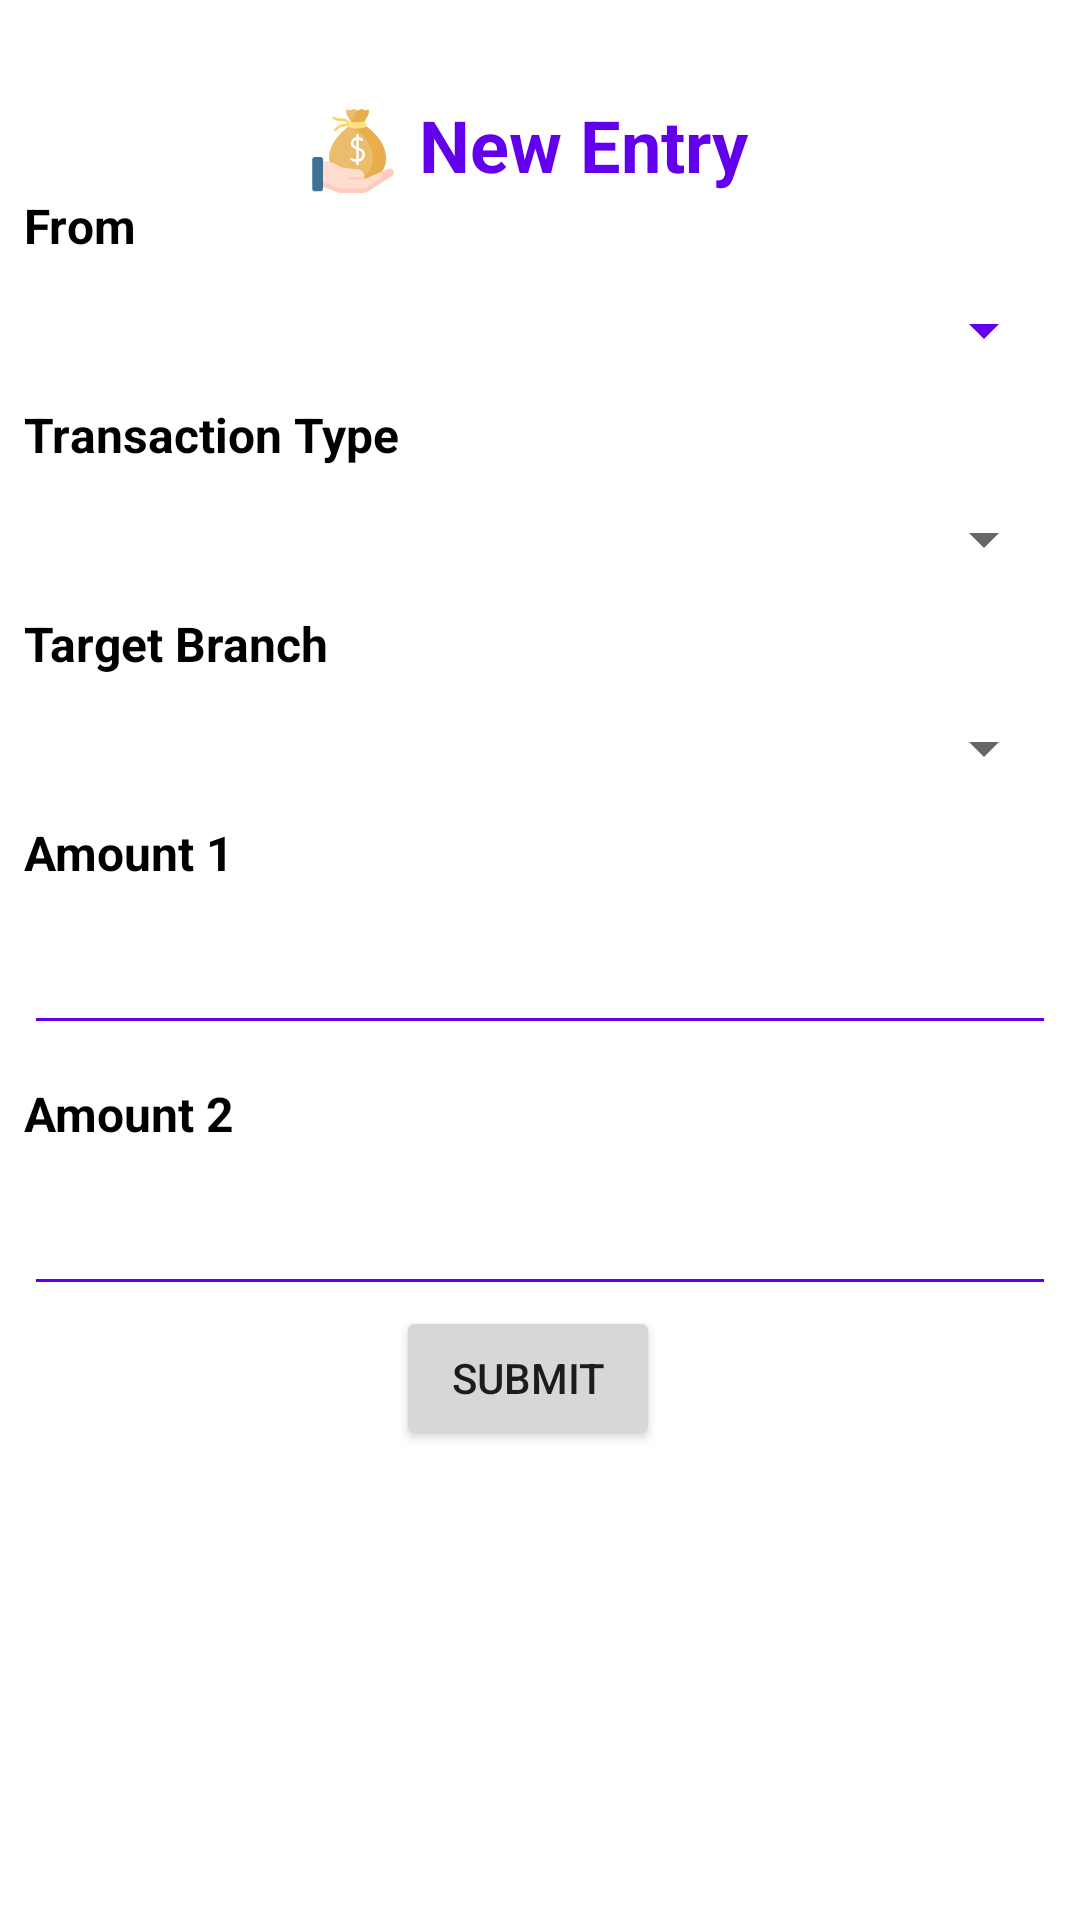

Where icons sit on this 1080x1920 app screen, as (x1, y1, x2, y2):
salary: (312, 109, 394, 193)
